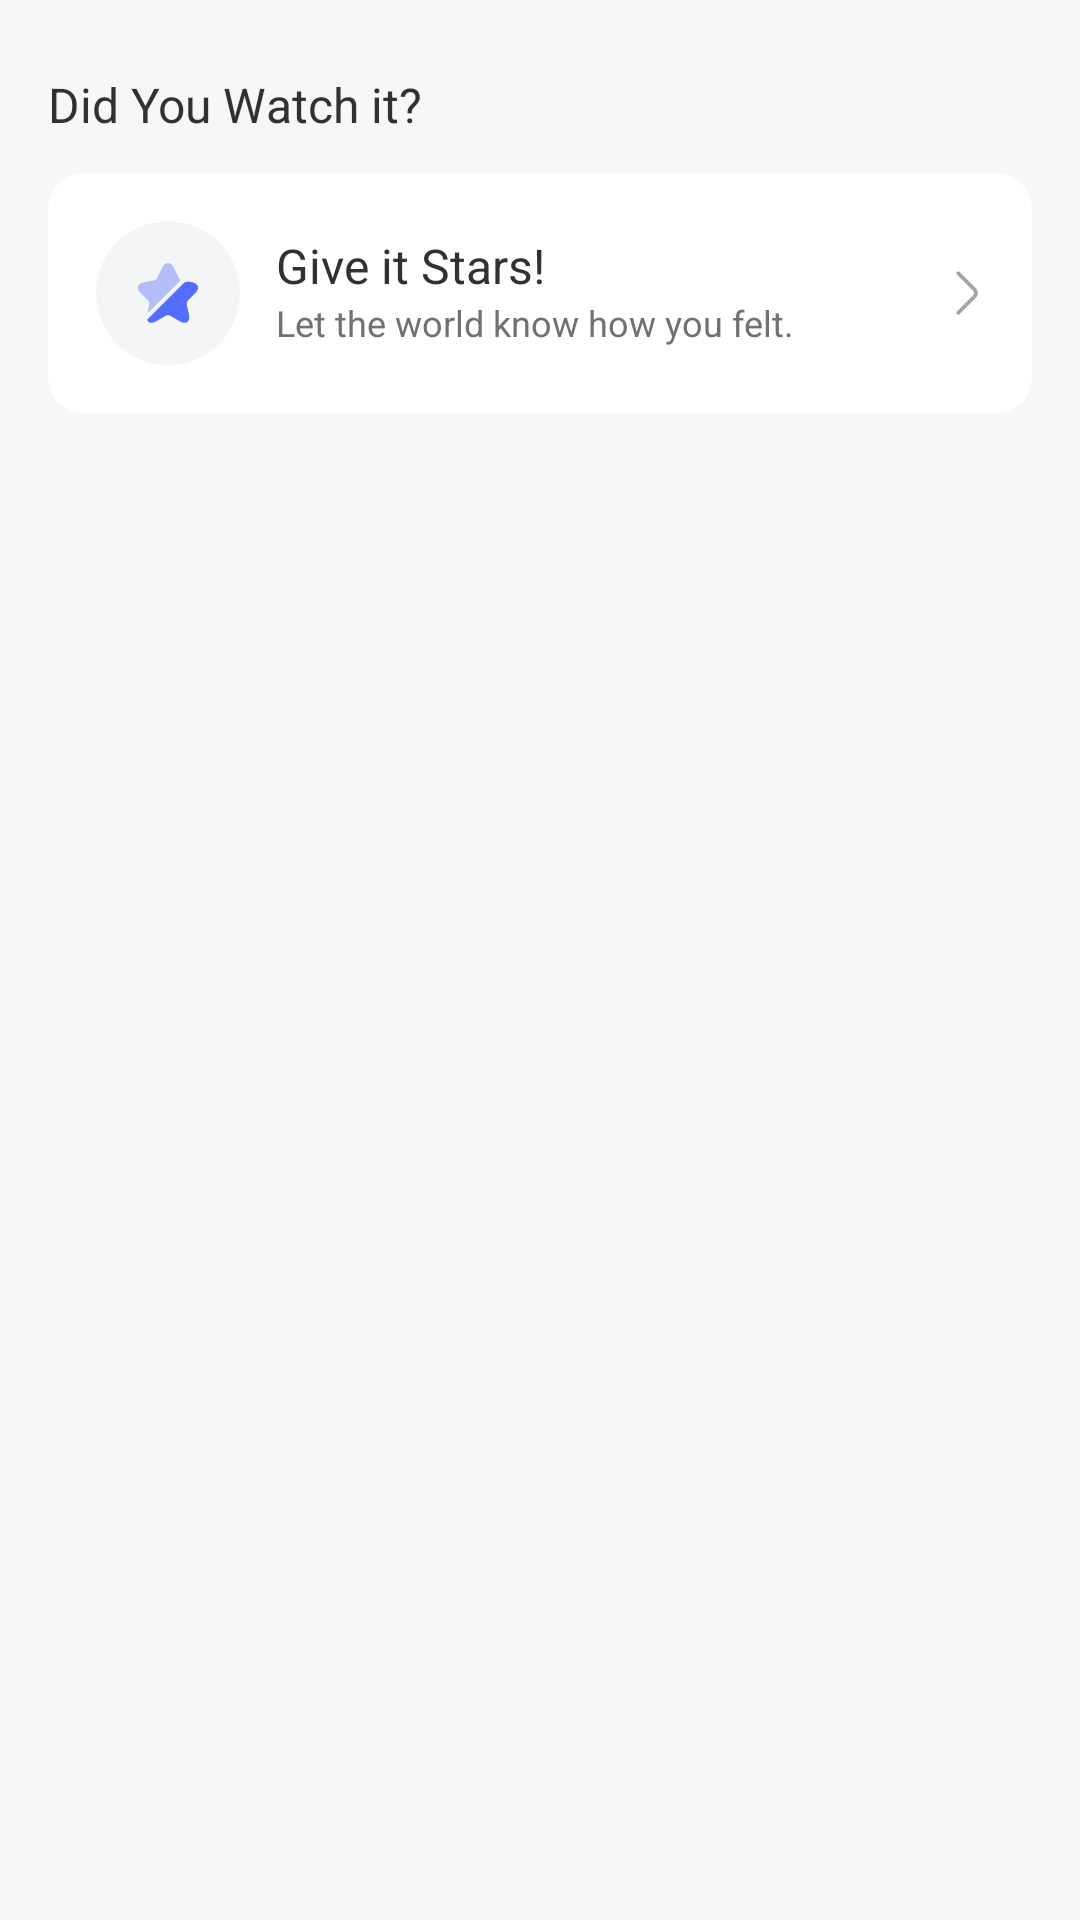

Locate icon controls on the screen. Image size 1080*1920, boxes as Rect(x1, y1, x2, y2).
gey arrow right: Rect(956, 271, 978, 315)
